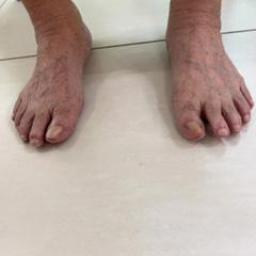Front View -Both Feet-: (1, 3, 255, 164)
